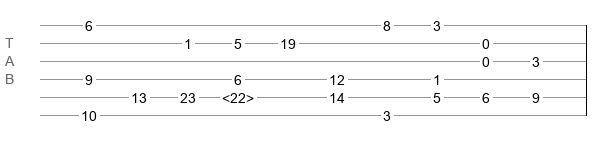0: (482, 54, 490, 64), (482, 36, 490, 46)
1: (184, 36, 192, 46), (433, 72, 441, 82)
10: (81, 108, 97, 118)
12: (329, 72, 345, 82)
13: (131, 90, 147, 100)
14: (329, 90, 345, 100)
19: (280, 36, 296, 46)
23: (180, 90, 196, 100)
3: (383, 108, 391, 118), (433, 18, 441, 28), (532, 54, 540, 64)
5: (234, 36, 242, 46), (433, 90, 441, 100)
6: (85, 18, 93, 28), (234, 72, 242, 82), (482, 90, 490, 100)
8: (383, 18, 391, 28)
9: (85, 72, 93, 82), (532, 90, 540, 100)
harmonic: (222, 90, 254, 100)
